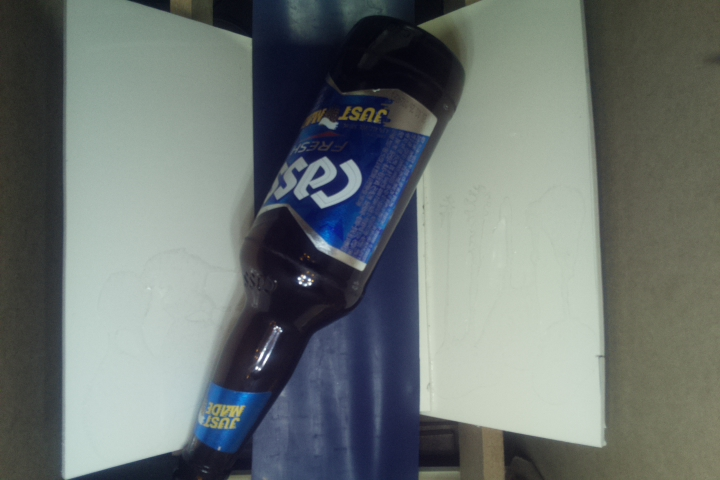makju: (180, 11, 469, 477)
